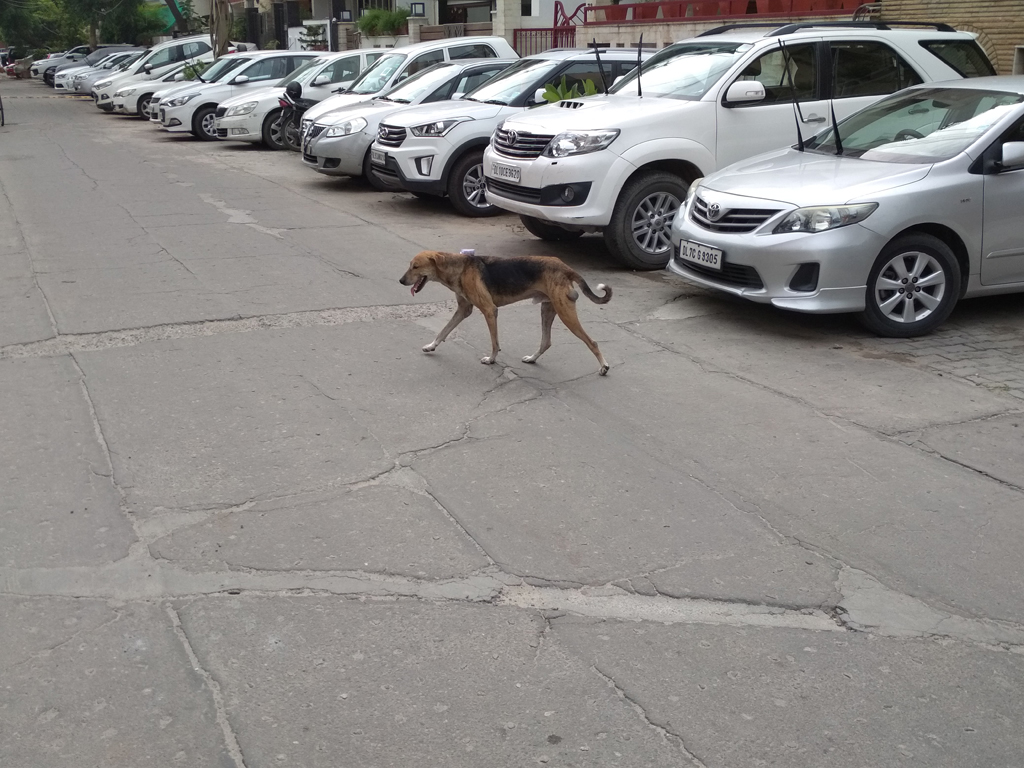dog: (399, 251, 614, 375)
